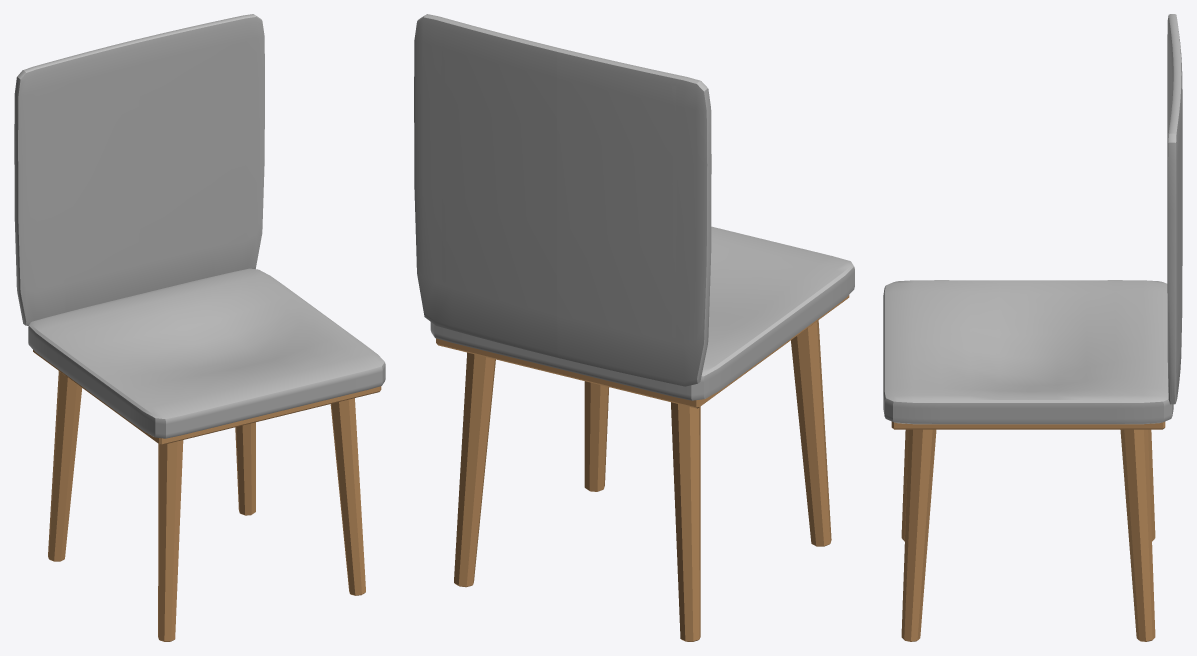
Rendered from Cadeira.fbx.
The picture shows the model from 3 angles, left to right: view 1: azimuth 30°, elevation 25°; view 2: azimuth 150°, elevation 25°; view 3: azimuth 270°, elevation 25°; orthographic projection. The views are drawn at different scales.
Visible parts, largest first — view 1: Cadeira; view 2: Cadeira; view 3: Cadeira.
Part boxes in pixels (x1,y1,x2,y2): Cadeira: (14, 14, 385, 641); Cadeira: (414, 14, 854, 641); Cadeira: (883, 14, 1182, 641).
Size of the model in its own units: 81.9 by 153 by 80.42.
